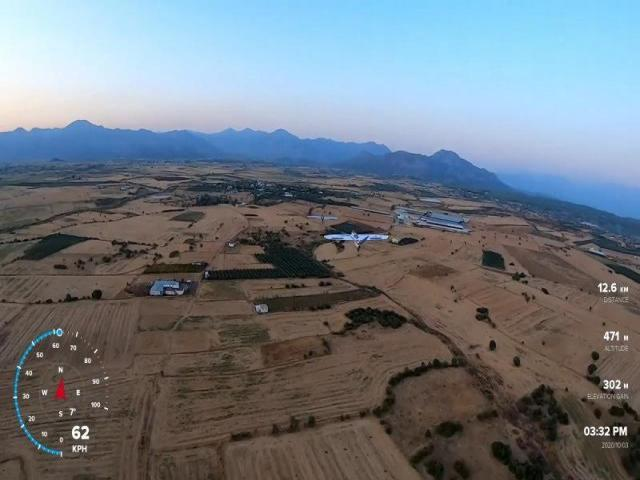hedef: (322, 227, 392, 256)
